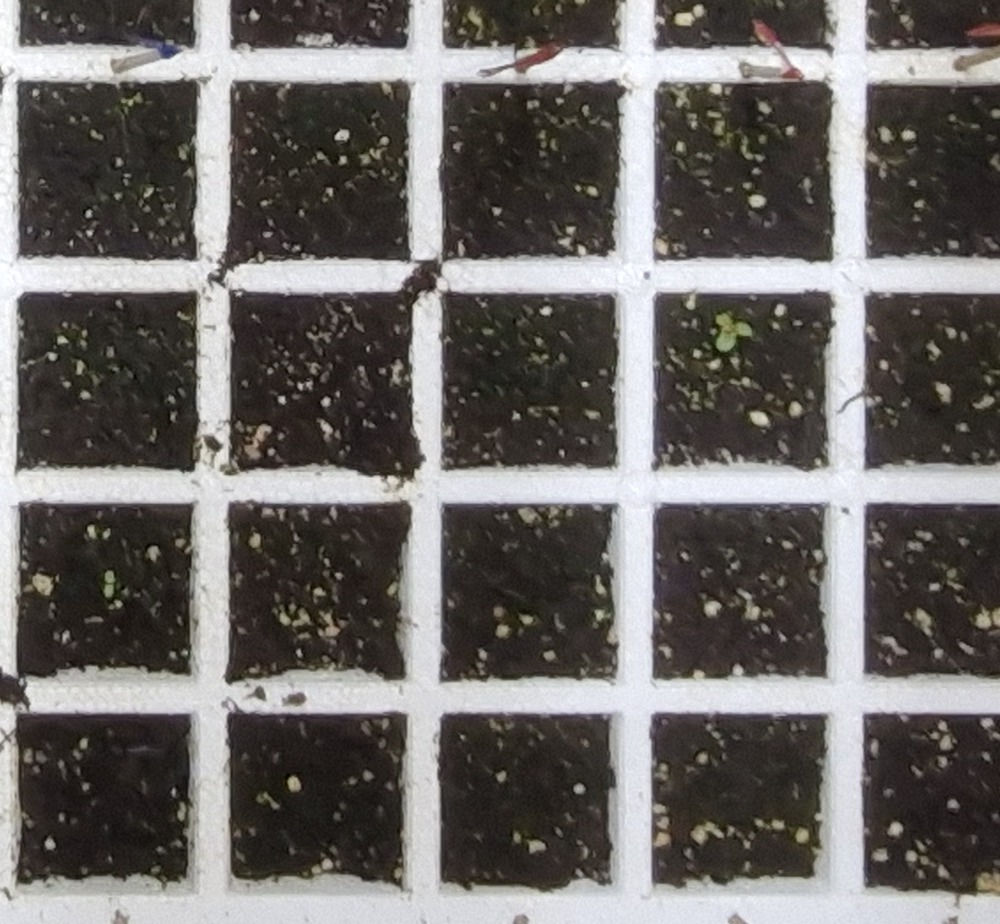Folha: (716, 330, 736, 351), (735, 322, 750, 336), (717, 314, 732, 326), (103, 584, 114, 596), (104, 572, 114, 583)
Germinacao: (716, 313, 753, 352), (102, 570, 115, 597)
